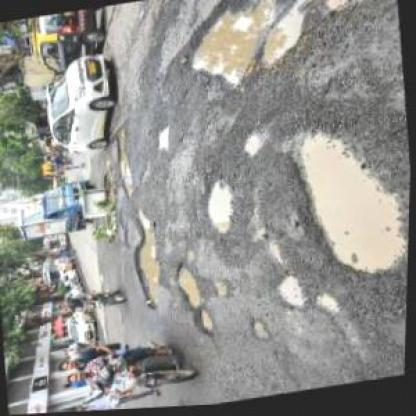pothole: (283, 118, 412, 290), (176, 0, 311, 97), (125, 204, 168, 313), (198, 179, 238, 237), (111, 126, 137, 200), (172, 260, 204, 310), (273, 275, 308, 312), (314, 292, 342, 322), (191, 306, 218, 336), (248, 317, 275, 344), (151, 124, 173, 151), (240, 132, 261, 159), (212, 278, 229, 300)
